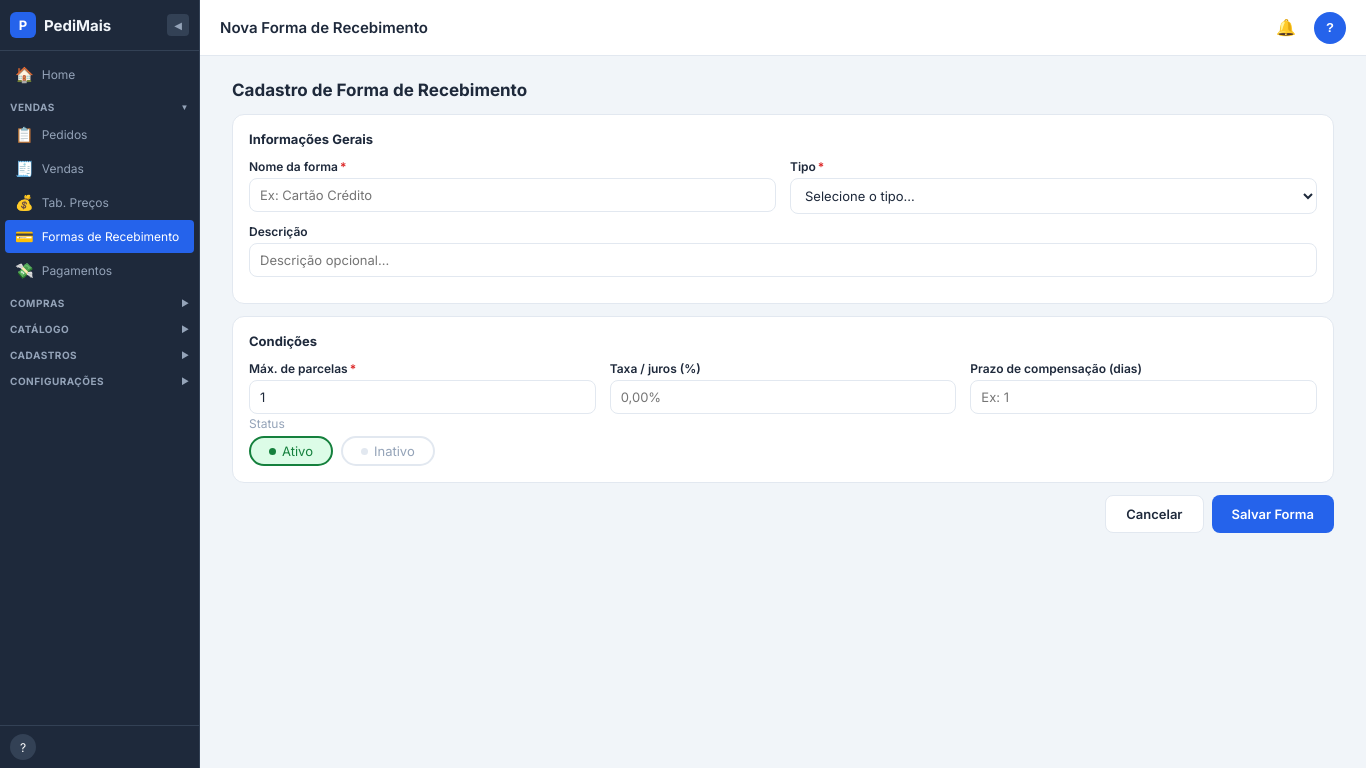
Test: PaymentMethodFormView › shows a conflict message when the name already exists
The width and height of the screenshot is (1366, 768).
In the field with test id "descricao": (512,195) [249,178,776,212], type "Pix"
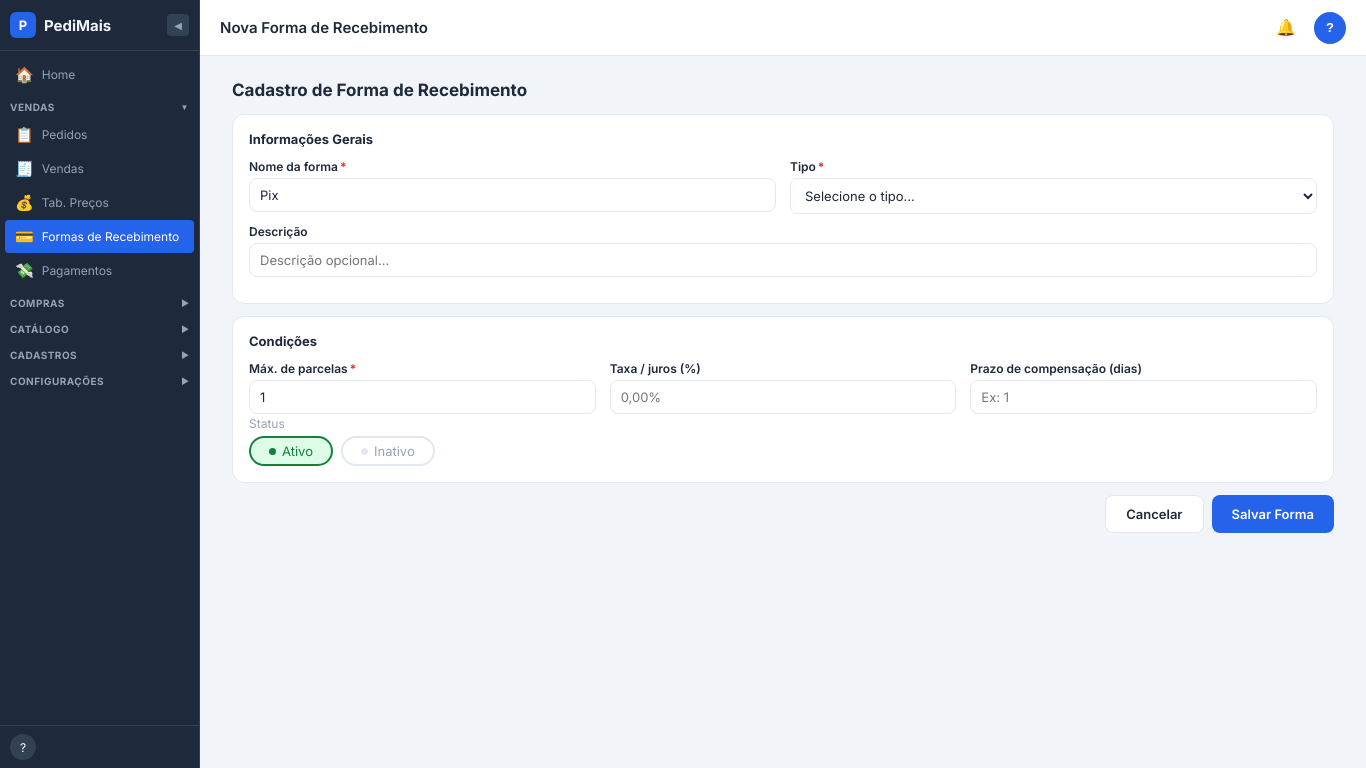
Select "Pix" in the dropdown with test id "tipo": (1054,196) [790,178,1317,214]
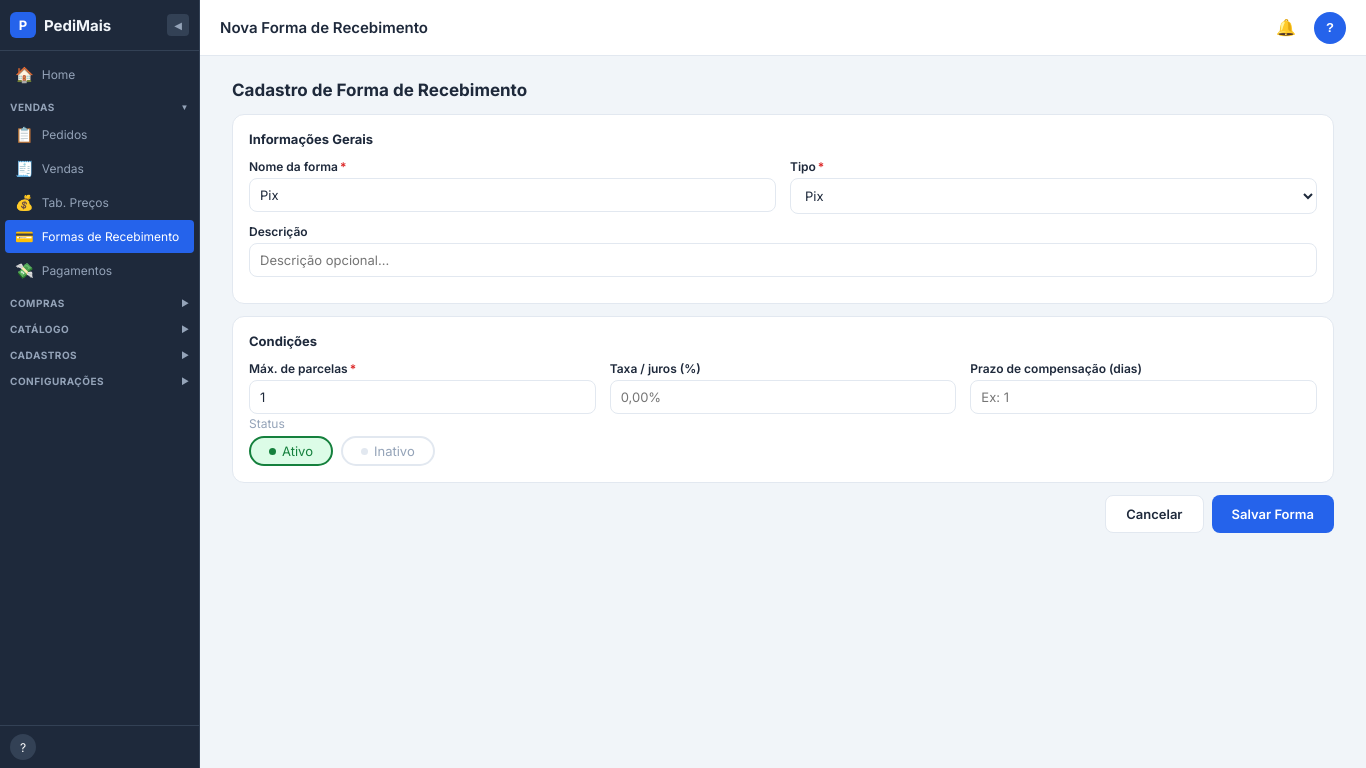
Submit the form, box [232,114,1334,533]
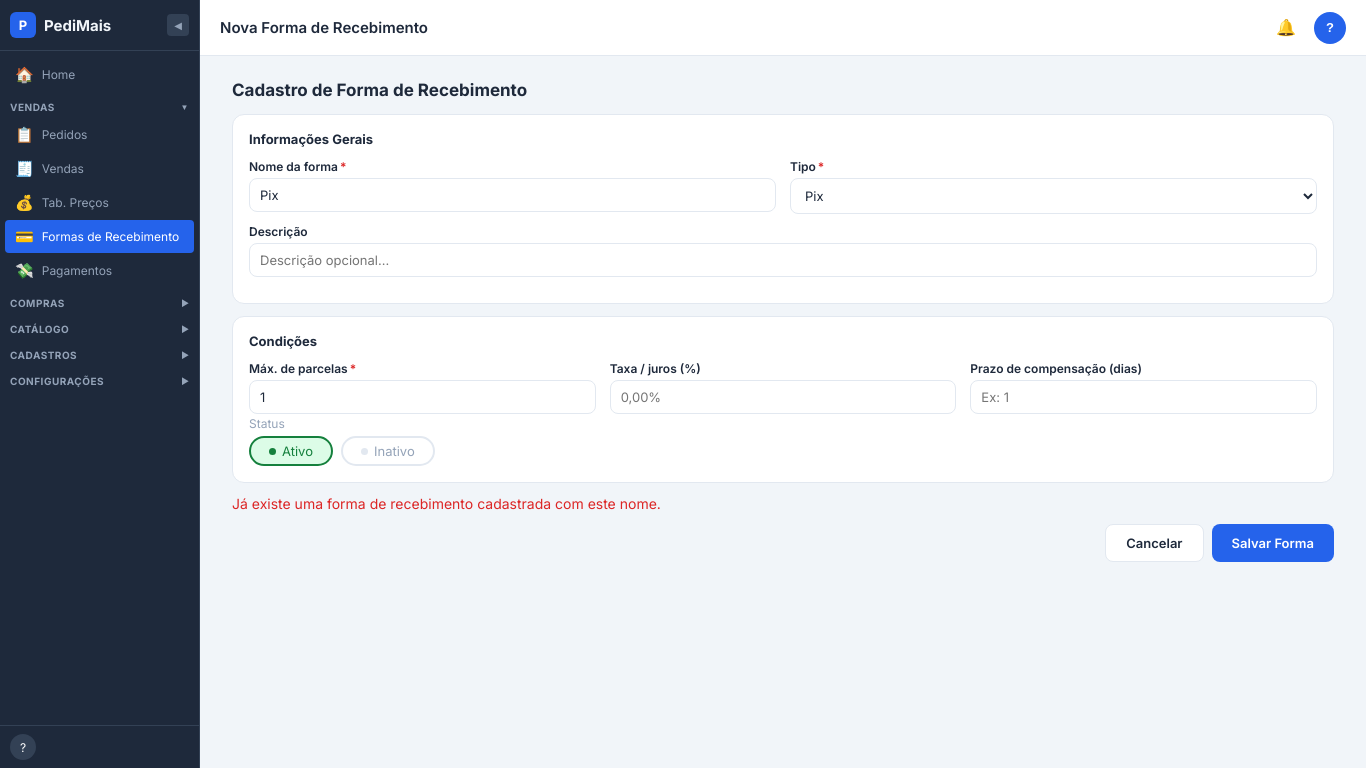
Expected: the text "Já existe uma forma de recebimento cadastrada com este nome." is shown, [232,495,661,512]
